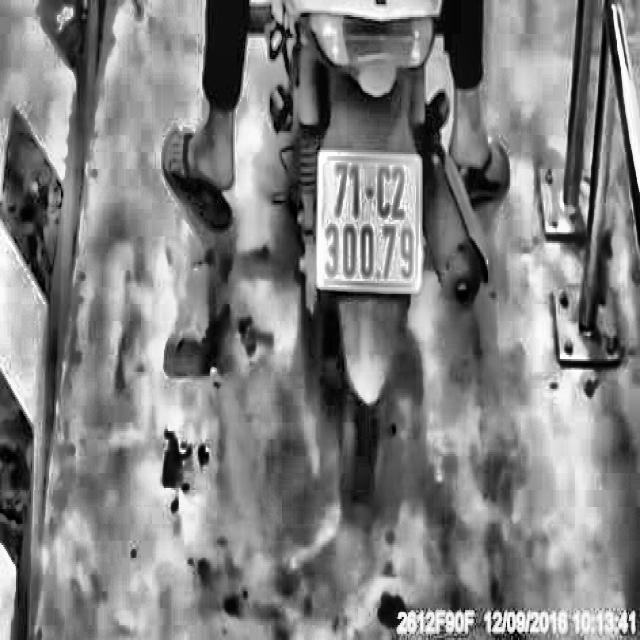plate: (310, 140, 428, 299)
